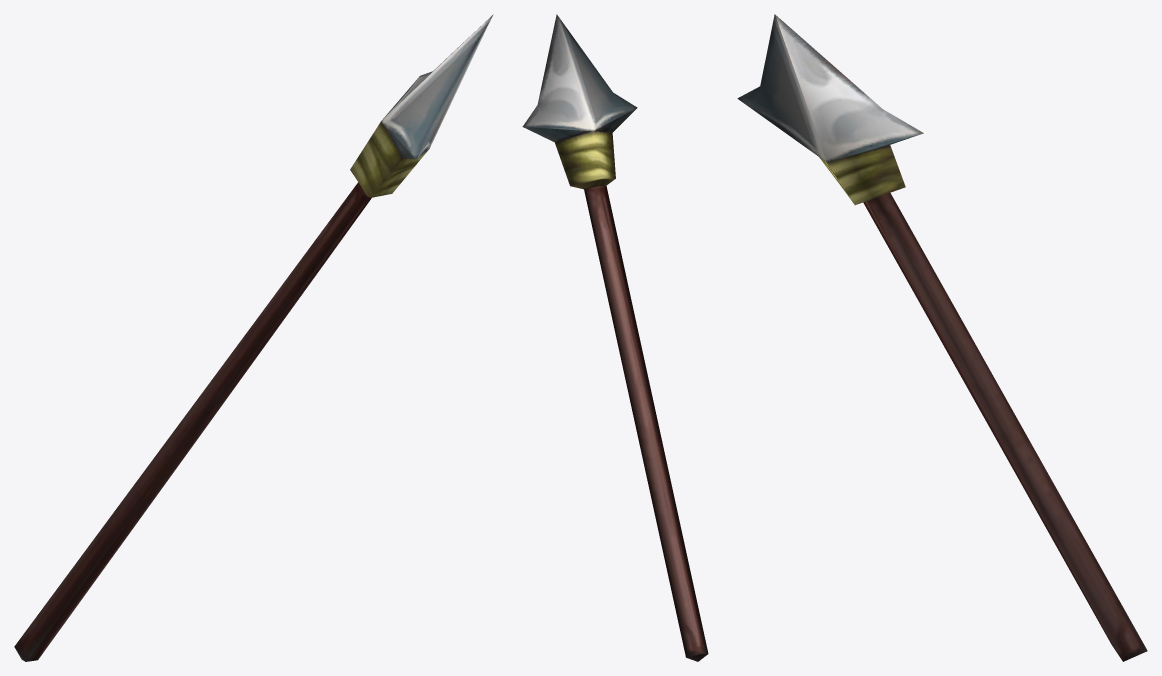
File: npcatk_indianm_a_weapon.fbx
3 renders of one model, left to right at view 1: azimuth 30°, elevation 25°; view 2: azimuth 150°, elevation 25°; view 3: azimuth 270°, elevation 25°, orthographic. The views are drawn at different scales.
Parts seen in each view (by area): view 1: npcatk_indianM_a_weapon; view 2: npcatk_indianM_a_weapon; view 3: npcatk_indianM_a_weapon.
Boxes of the visible parts, x1,y1,x2,y2 form: npcatk_indianM_a_weapon: (14,14,493,661); npcatk_indianM_a_weapon: (522,14,708,661); npcatk_indianM_a_weapon: (737,14,1147,661).
Bounding box in the file's own units: 149 × 126 × 285.
